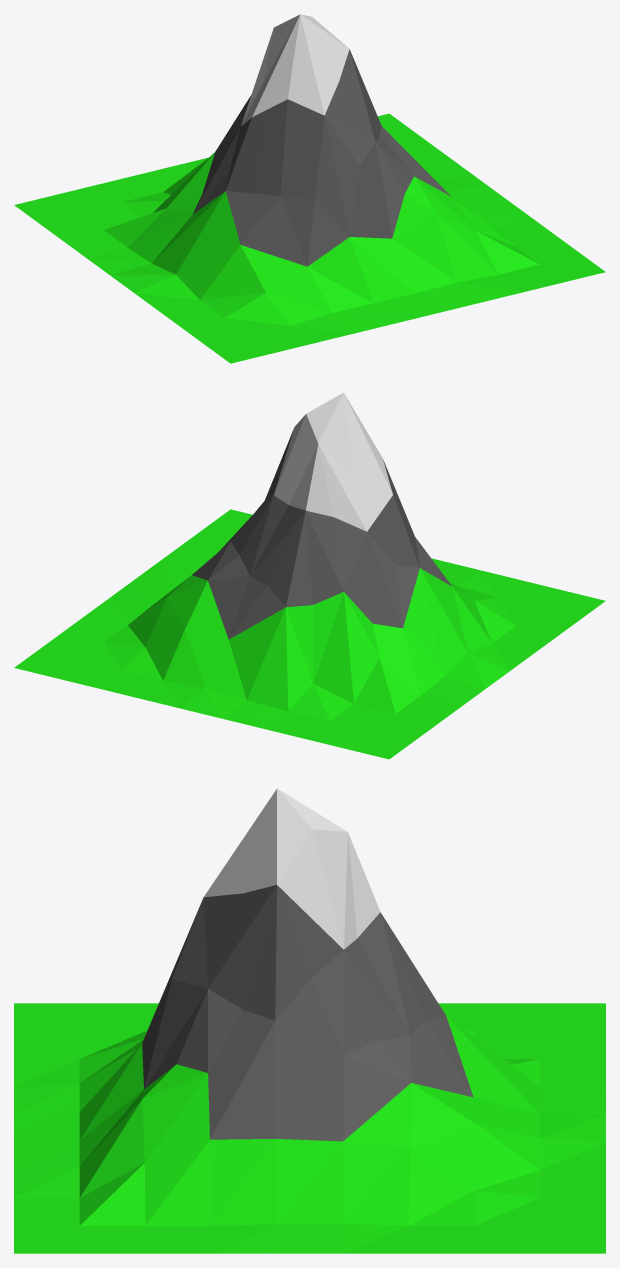
File: Mountain1.fbx
The picture shows the model from 3 angles, top to bottom: view 1: azimuth 30°, elevation 25°; view 2: azimuth 150°, elevation 25°; view 3: azimuth 270°, elevation 25°; orthographic projection. The views are drawn at different scales.
Visible parts, largest first — view 1: Mountain1; view 2: Mountain1; view 3: Mountain1.
Part boxes in pixels (x1,y1,x2,y2): Mountain1: (14,14,605,363); Mountain1: (14,392,605,759); Mountain1: (14,788,605,1253).
Size of the model in its own units: 6000 by 3643 by 6000.
